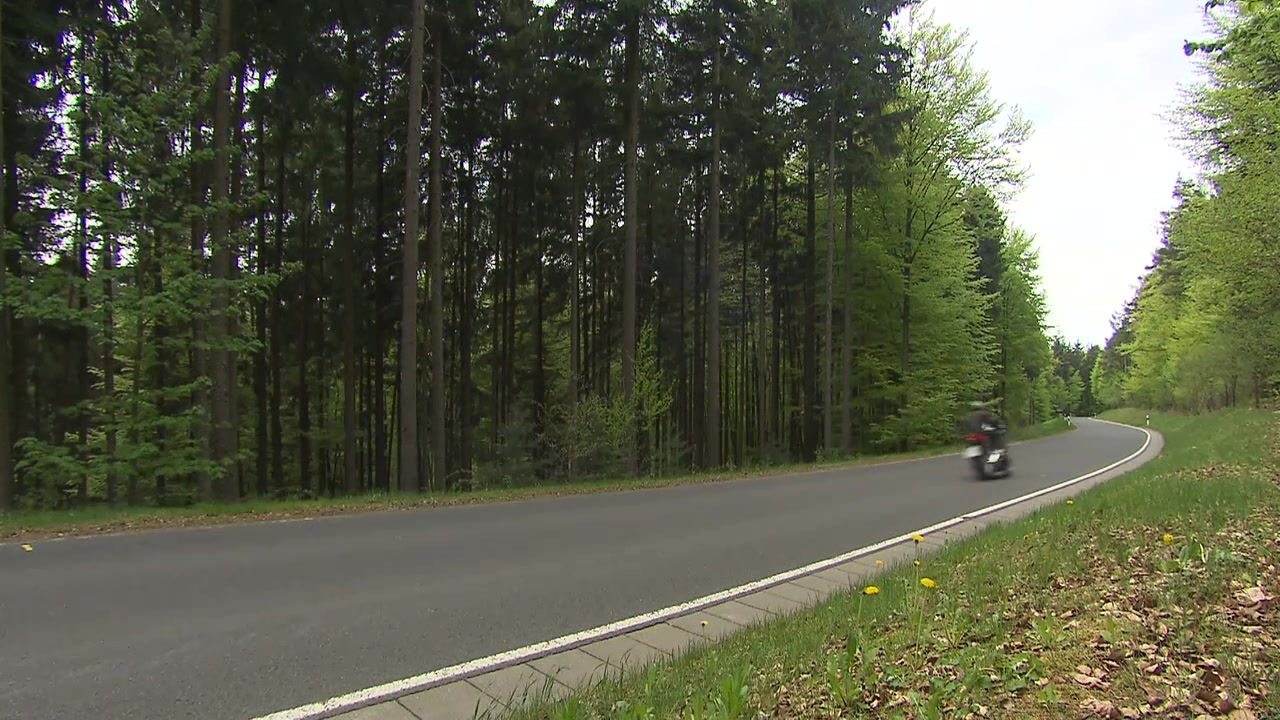motorbike: (963, 422, 1014, 483)
